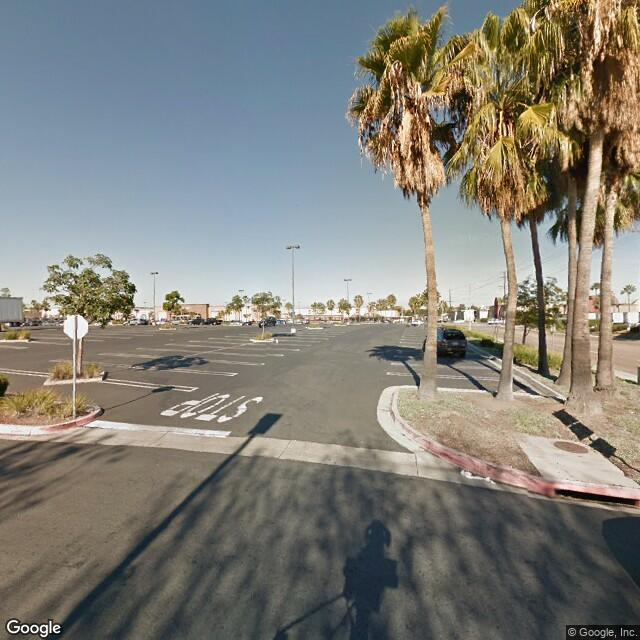litter: (461, 469, 496, 484)
